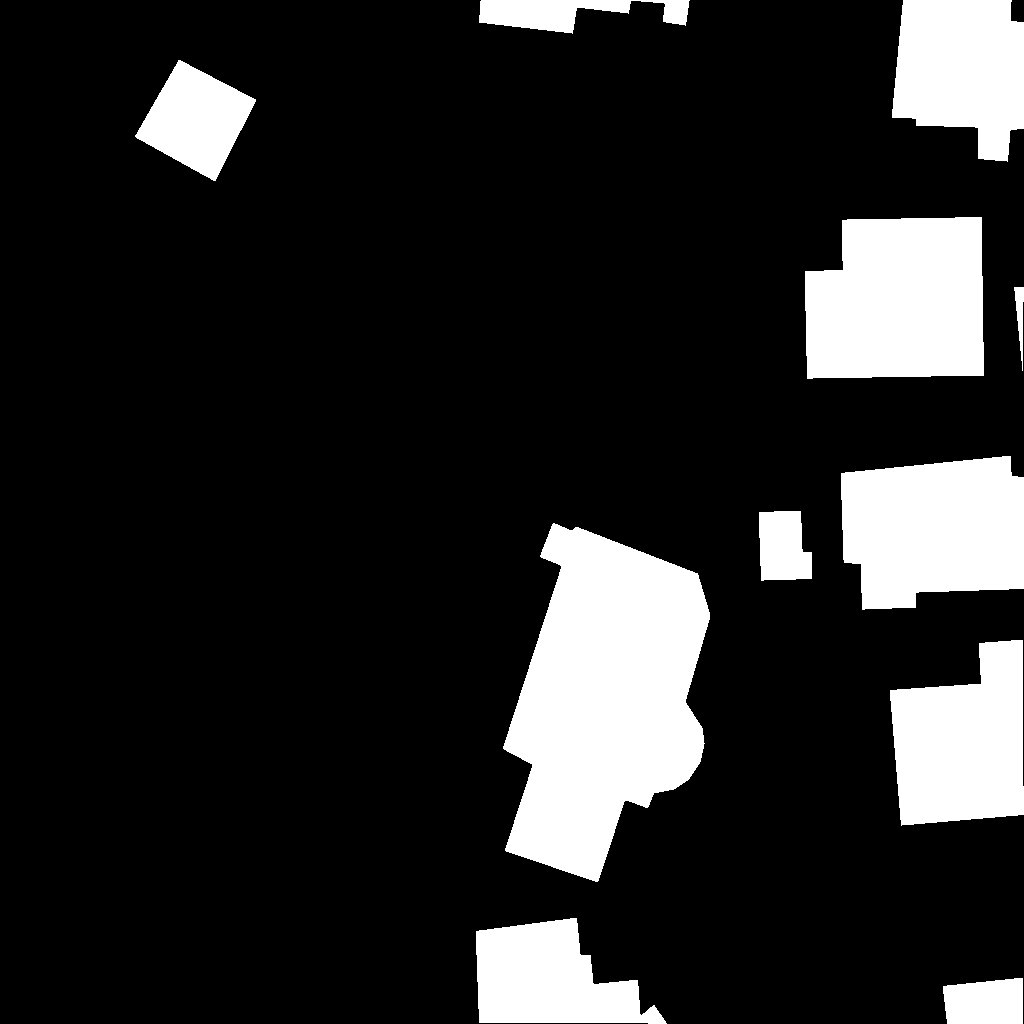building: (503, 523, 711, 883), (476, 918, 777, 1024), (805, 217, 985, 379), (841, 456, 1024, 610), (890, 640, 1024, 826), (892, 0, 1024, 162), (135, 60, 257, 182), (479, 0, 690, 34), (943, 978, 1024, 1024), (759, 511, 812, 581), (1014, 287, 1024, 376)
